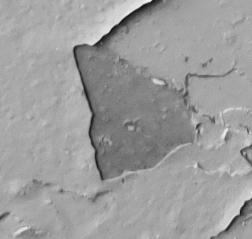paint-off: (0, 1, 252, 239)
